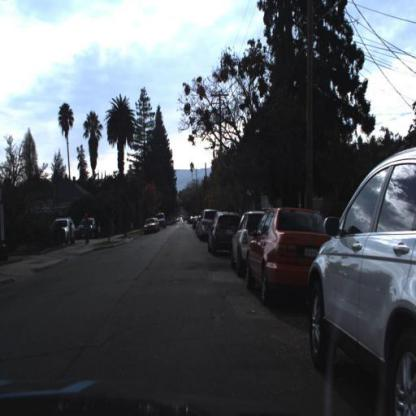car: (308, 147, 416, 416), (243, 204, 330, 306), (228, 206, 275, 280), (230, 211, 264, 276), (208, 210, 240, 256), (56, 216, 78, 242), (199, 208, 215, 241), (77, 216, 96, 239), (145, 217, 159, 234), (155, 212, 167, 228)
pedestrian: (84, 212, 90, 246)
